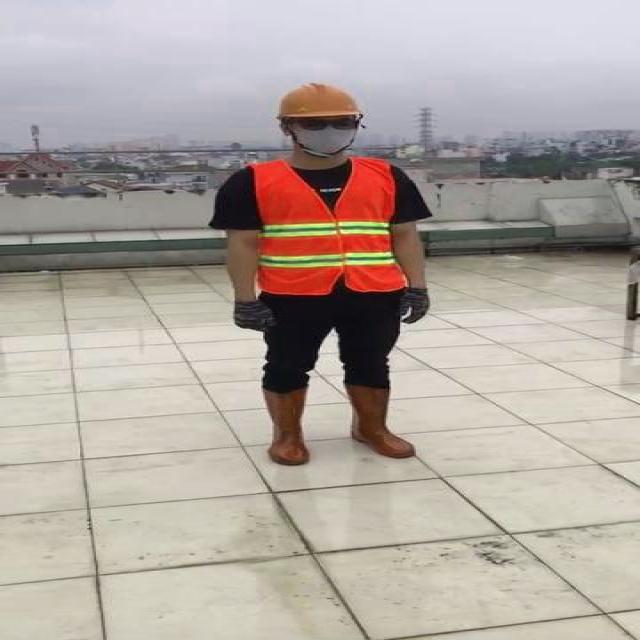boots: (334, 383, 420, 459), (256, 386, 318, 466)
face_mask: (292, 116, 359, 152)
glasses: (292, 115, 362, 134)
hand_glove: (228, 299, 276, 332), (400, 287, 437, 323)
head_helmet: (277, 80, 367, 120)
person: (207, 79, 445, 468)
vest: (250, 162, 402, 293)
